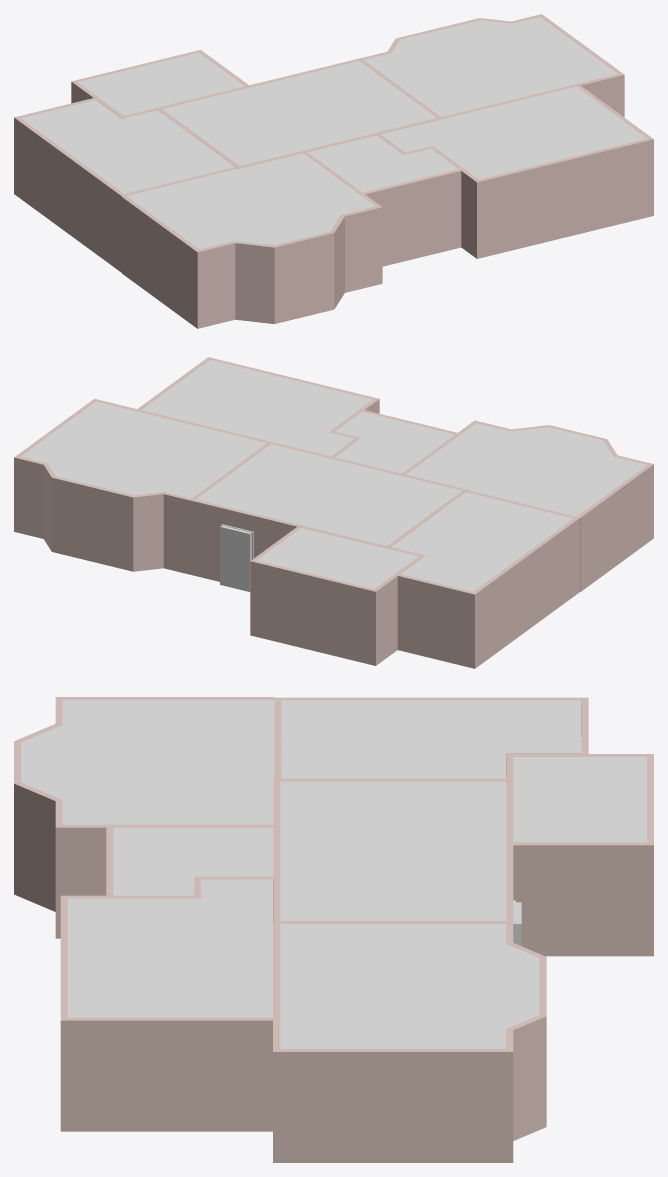
Rendered from Mainhouse2.fbx.
3 views of the same model, one above another, from view 1: azimuth 30°, elevation 25°; view 2: azimuth 150°, elevation 25°; view 3: azimuth 270°, elevation 25° (orthographic). The views are drawn at different scales.
Visible parts, largest first — view 1: Room.001, Room.003, Ceiling, Ceiling.006, Ceiling.002, Ceiling.005, Ceiling.003, Room, Room.002, Ceiling.004, Ceiling.001, Room.004 (+2 smaller); view 2: Room, Ceiling, Room.004, Ceiling.006, Ceiling.002, Side Room 1, Ceiling.005, Ceiling.003, Room.001, Main Room, Ceiling.004, Ceiling.001 (+3 smaller); view 3: Room.004, Ceiling, Ceiling.006, Ceiling.002, Room.003, Ceiling.005, Ceiling.003, Side Room 1, Ceiling.004, Room.001, Ceiling.001, Main Room (+2 smaller).
Part boxes in pixels (x1,y1,x2,y2): Room.001: (122,152,382,328); Room.003: (442,84,653,258); Ceiling: (162,61,436,165); Ceiling.006: (364,17,617,116); Ceiling.002: (127,153,375,249); Ceiling.005: (381,86,646,179); Ceiling.003: (21,100,234,193); Room: (14,98,237,272); Room.002: (363,134,465,266); Ceiling.004: (78,52,244,115); Ceiling.001: (307,135,458,192); Room.004: (361,14,624,117); Room: (397,490,580,668); Ceiling: (196,444,461,545); Room.004: (14,398,191,574); Ceiling.006: (21,401,266,498); Ceiling.002: (406,423,646,516); Side Room 1: (250,526,424,665); Ceiling.005: (141,360,372,456); Ceiling.003: (391,492,573,591); Room.001: (402,420,653,591); Main Room: (189,441,468,581); Ceiling.004: (257,527,418,588); Ceiling.001: (335,412,454,473); Room.004: (273,924,546,1162); Ceiling: (280,781,506,920); Ceiling.006: (280,924,539,1048); Ceiling.002: (21,700,274,824); Room.003: (60,895,280,1131); Ceiling.005: (67,879,272,1017); Ceiling.003: (280,700,581,778); Side Room 1: (506,754,653,956); Ceiling.004: (513,757,646,842); Room.001: (14,697,274,938); Ceiling.001: (113,827,273,895); Main Room: (273,778,513,923).
Bounding box in the file's own units: 1784 × 265 × 1360.
